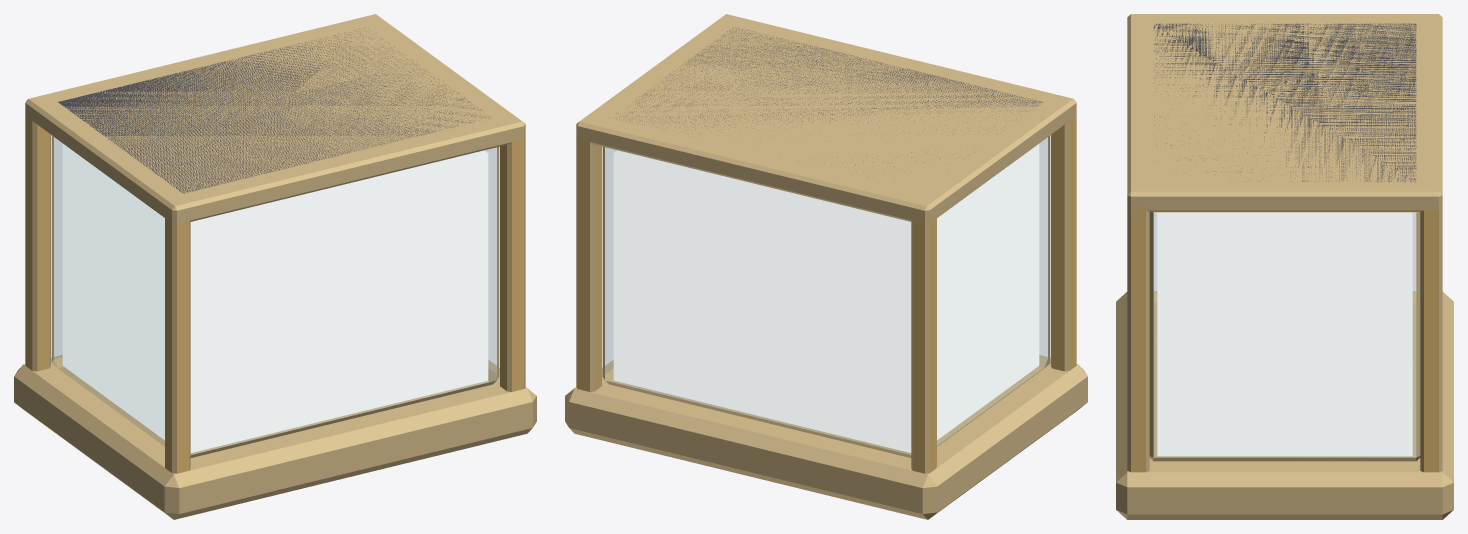
The model's file is Out_Vat.fbx.
3 renders of one model, left to right at view 1: azimuth 30°, elevation 25°; view 2: azimuth 150°, elevation 25°; view 3: azimuth 270°, elevation 25°, orthographic. The views are drawn at different scales.
Parts seen in each view (by area): view 1: Out_Vat, Liquid.005; view 2: Out_Vat, Liquid.005; view 3: Out_Vat, Liquid.005.
Boxes of the visible parts, <box> form: Out_Vat: <box>14,14,536,519</box>; Liquid.005: <box>62,143,488,452</box>; Out_Vat: <box>565,14,1087,519</box>; Liquid.005: <box>613,143,1039,452</box>; Out_Vat: <box>1116,14,1453,519</box>; Liquid.005: <box>1157,212,1412,456</box>.
Bounding box in the file's own units: 1.2 × 0.96 × 0.9.
